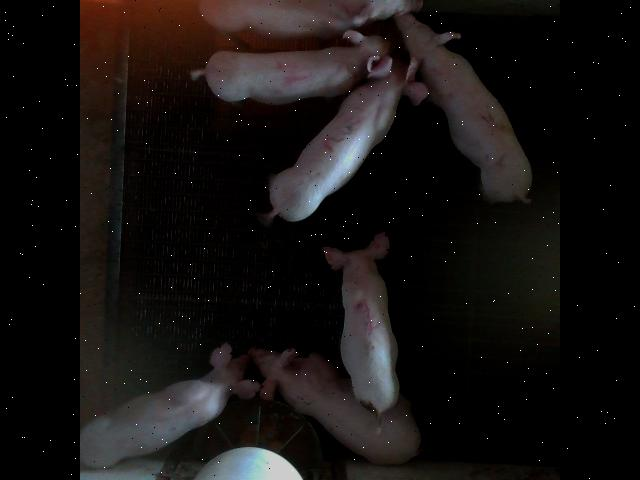pig-3: (258, 55, 428, 225)
pig-4: (192, 29, 398, 104)
pig-5: (324, 231, 399, 414)
